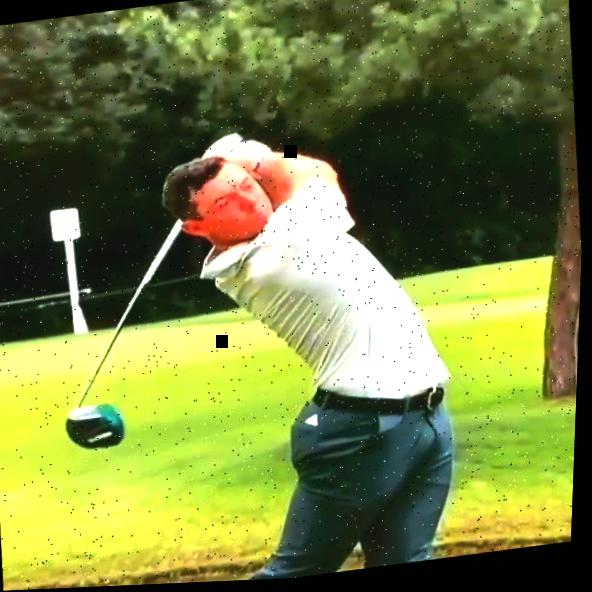ClubHead: (66, 400, 132, 454)
